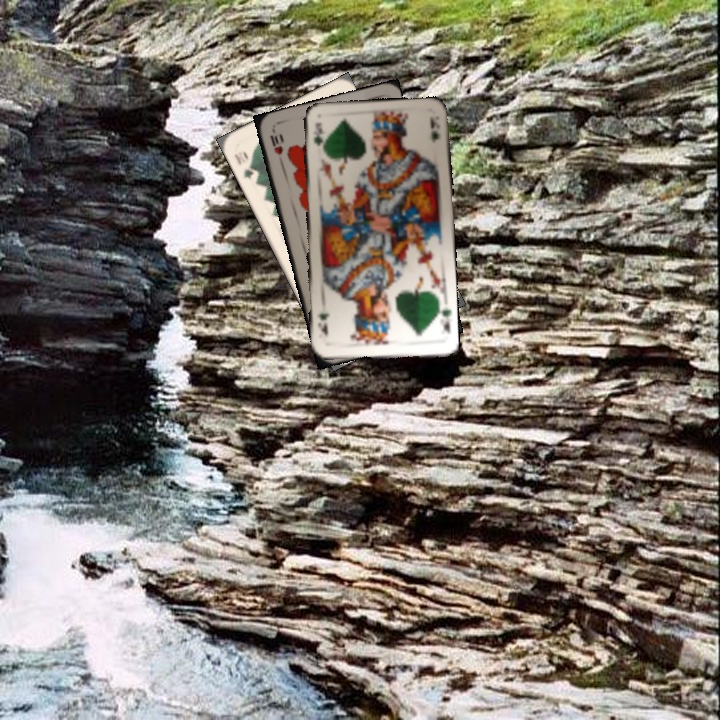G10: (230, 149, 257, 181)
GK: (433, 301, 453, 336), (309, 118, 326, 157)
H10: (266, 131, 285, 157)
